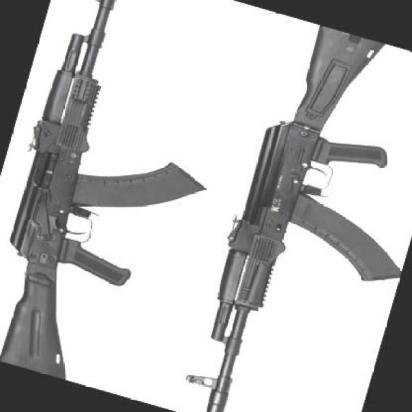Gun: (186, 30, 403, 412), (0, 0, 204, 366)
